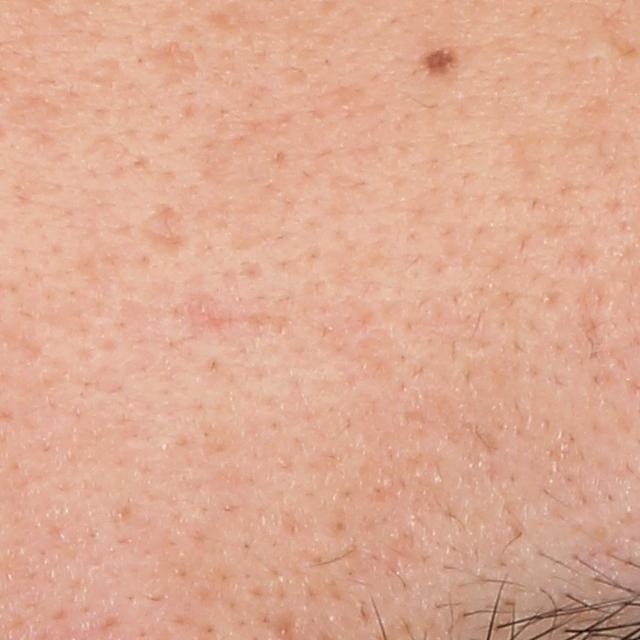atrophic_scar: (128, 199, 194, 255), (572, 275, 609, 372), (144, 40, 198, 93)
nevus: (417, 38, 463, 80)
